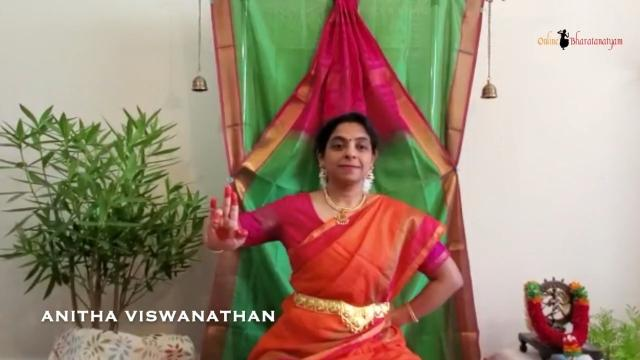tripataka: (193, 170, 259, 258)
